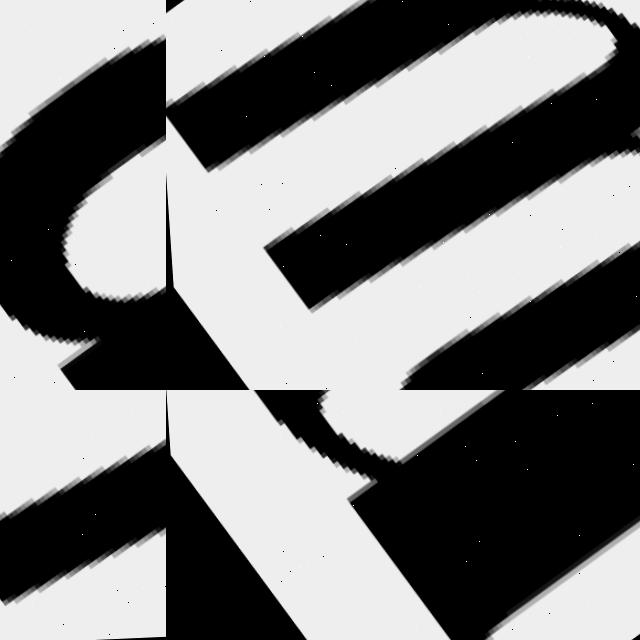A: (166, 390, 640, 640)
D: (0, 0, 166, 390)
M: (166, 0, 640, 390)
N: (0, 390, 166, 640)
